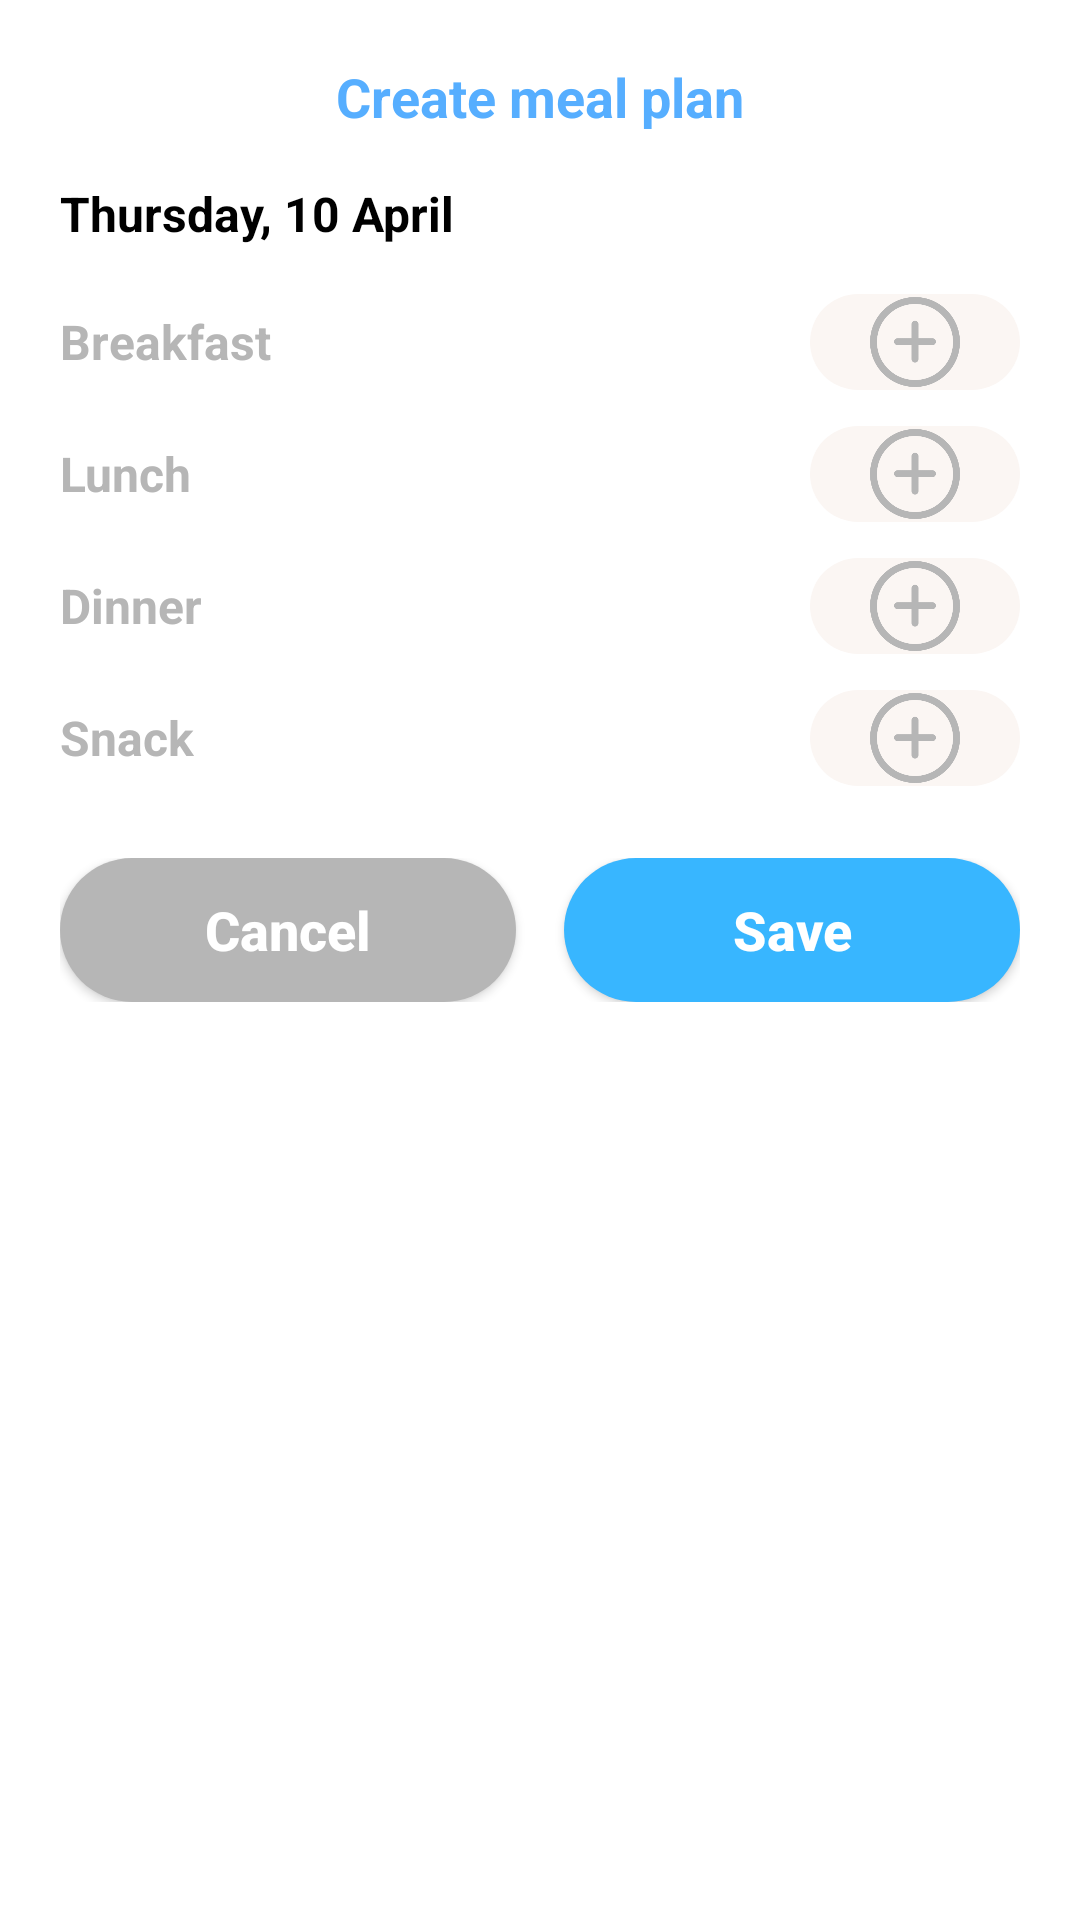

Screen size 1080 x 1920. Icon name, then its box in pixels as (x1, y1, x2, y2):
add meal plan: (870, 297, 960, 387), (870, 429, 960, 519), (870, 561, 960, 651), (870, 693, 960, 783)
